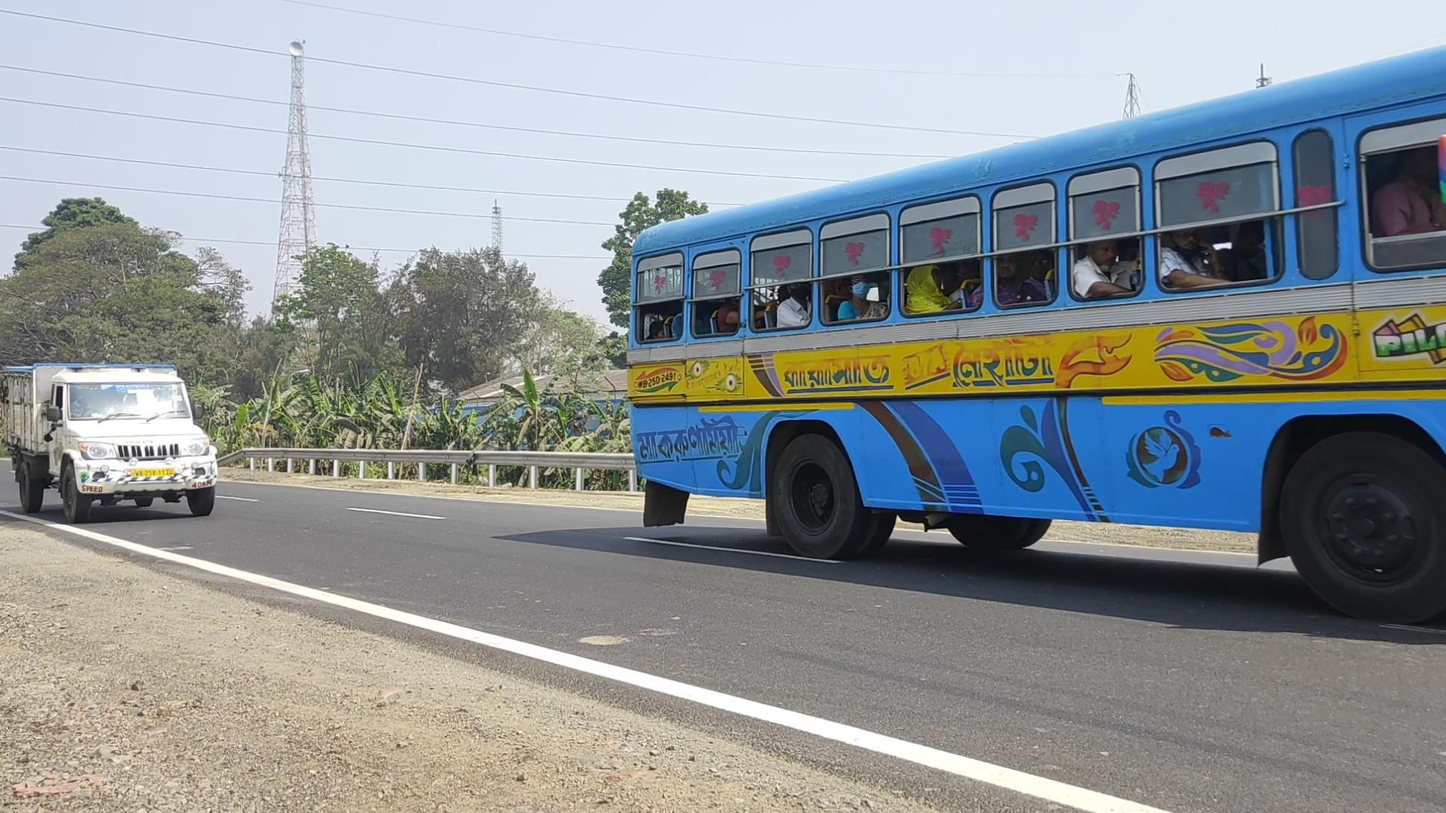Bus: (626, 32, 1446, 619)
van: (6, 363, 218, 522)
